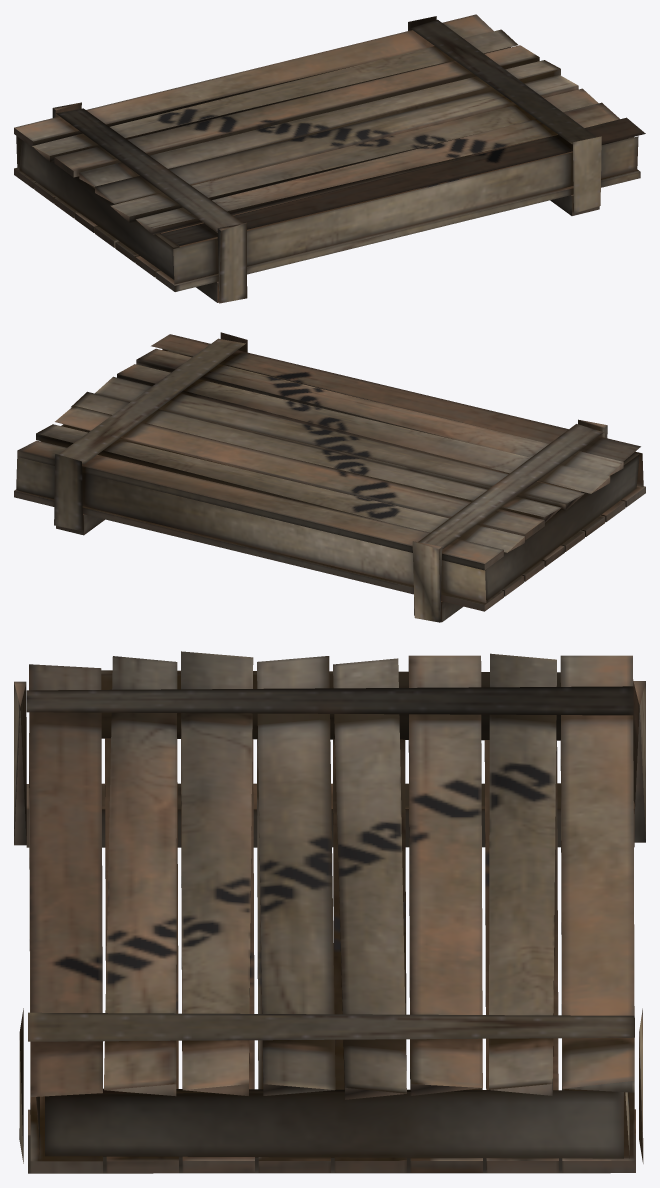
File: Wooden box 2,4.fbx
3 renders of one model, top to bottom at view 1: azimuth 30°, elevation 25°; view 2: azimuth 150°, elevation 25°; view 3: azimuth 270°, elevation 25°, orthographic. The views are drawn at different scales.
Parts seen in each view (by area): view 1: Wooden_box004_LOD0; view 2: Wooden_box004_LOD0; view 3: Wooden_box004_LOD0.
Part boxes in pixels (x1=…): Wooden_box004_LOD0: x1=14, y1=14, x2=645, y2=303; Wooden_box004_LOD0: x1=14, y1=332, x2=645, y2=622; Wooden_box004_LOD0: x1=14, y1=651, x2=645, y2=1173.
Size of what is drawn, in the model's own units: 162 by 24.3 by 98.89.
